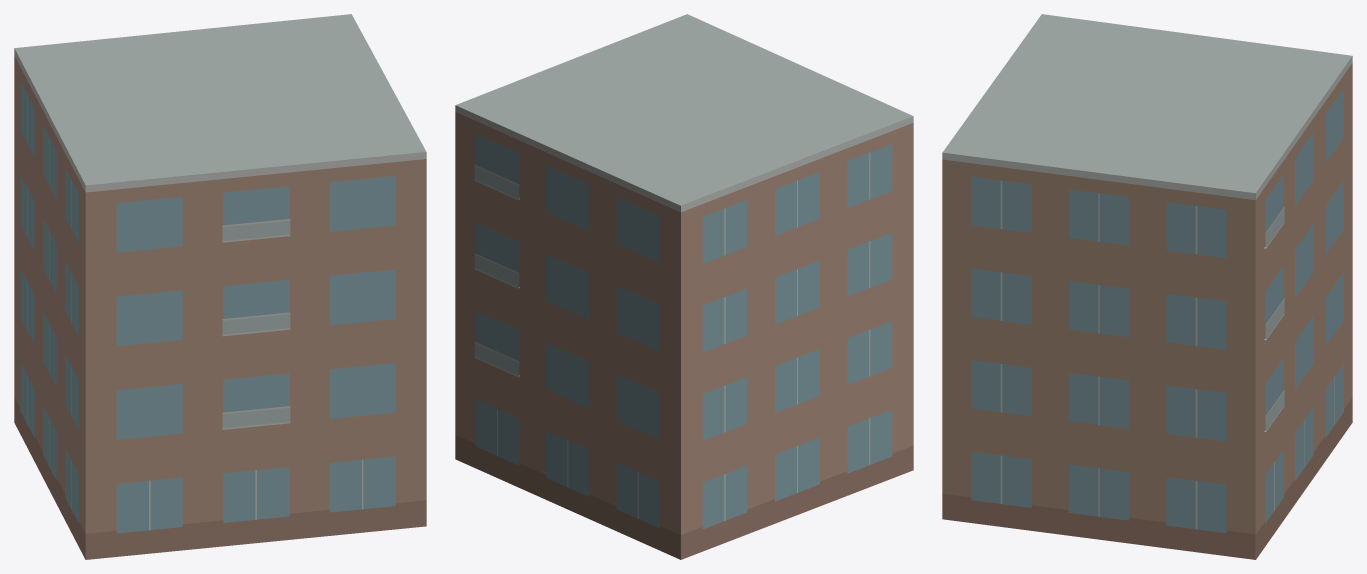
File: survey-upis-32526593.glb
3 renders of one model, left to right at view 1: azimuth 30°, elevation 25°; view 2: azimuth 150°, elevation 25°; view 3: azimuth 270°, elevation 25°, orthographic. The views are drawn at different scales.
Visible parts, largest first — view 1: survey-upis-32526593.tmp; view 2: survey-upis-32526593.tmp; view 3: survey-upis-32526593.tmp.
Boxes of the visible parts, x1,y1,x2,y2 form: survey-upis-32526593.tmp: (14, 14, 426, 559); survey-upis-32526593.tmp: (455, 14, 913, 559); survey-upis-32526593.tmp: (942, 14, 1352, 559).
Bounding box in the file's own units: 13.7 × 13.05 × 13.25.
